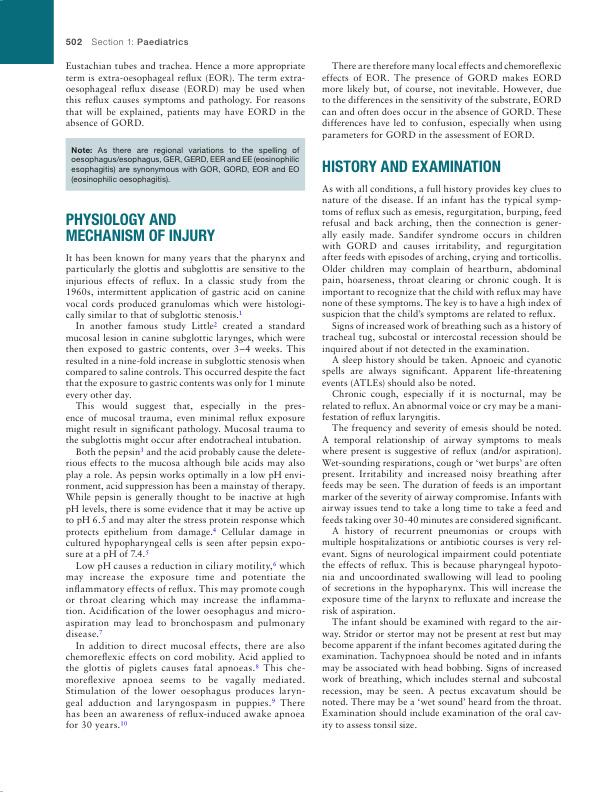header: (91, 36, 190, 47)
section-heading: (65, 211, 216, 243), (321, 158, 502, 175)
text: (320, 184, 564, 731), (64, 252, 307, 732), (320, 60, 563, 142), (63, 60, 306, 128), (70, 145, 301, 186)
